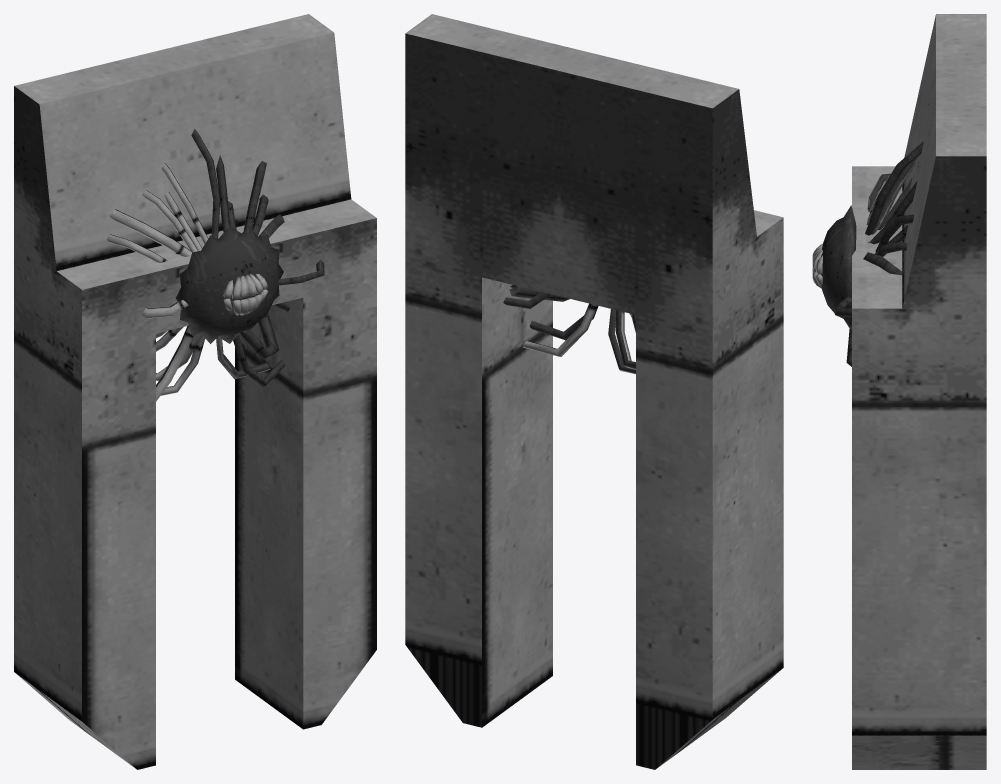
File: NaveCentral_Arco.fbx
The picture shows the model from 3 angles, left to right: view 1: azimuth 30°, elevation 25°; view 2: azimuth 150°, elevation 25°; view 3: azimuth 270°, elevation 25°; orthographic projection. The views are drawn at different scales.
Visible parts, largest first — view 1: NC_Arco; view 2: NC_Arco; view 3: NC_Arco.
Part boxes in pixels (x1=…): NC_Arco: x1=14, y1=14, x2=376, y2=769; NC_Arco: x1=405, y1=14, x2=783, y2=769; NC_Arco: x1=812, y1=14, x2=986, y2=769.
Bounding box in the file's own units: 2000 × 4200 × 1034.
